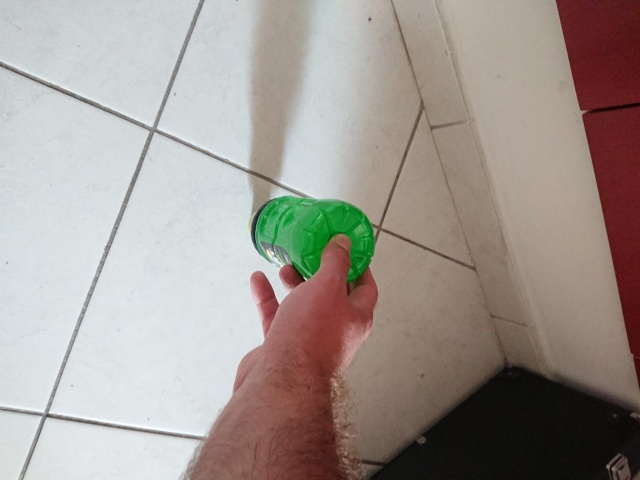Vindi Iso Sport Lemon-Grapefruit 500mL: (245, 193, 378, 289)
